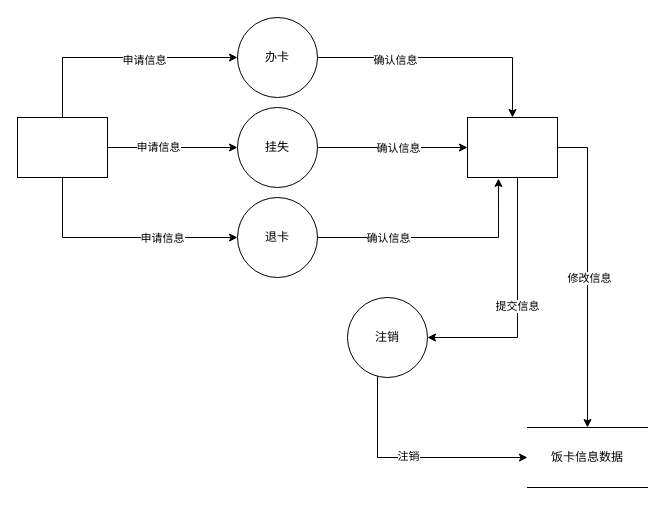
This 665x505 diagram has some shape labels left out. Each missing label, with the centre of its shape:
"学生/教职工" goes at point (62, 147).
"管理员" goes at point (512, 147).
